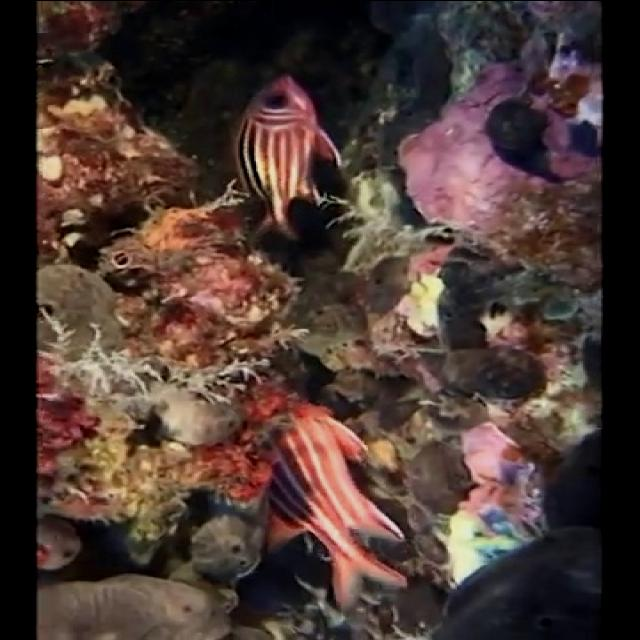Asker Baligi: (233, 72, 347, 242)
